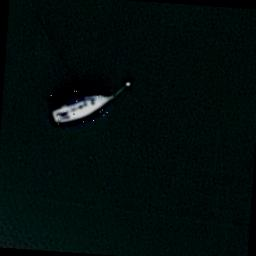boat: (49, 88, 117, 130)
